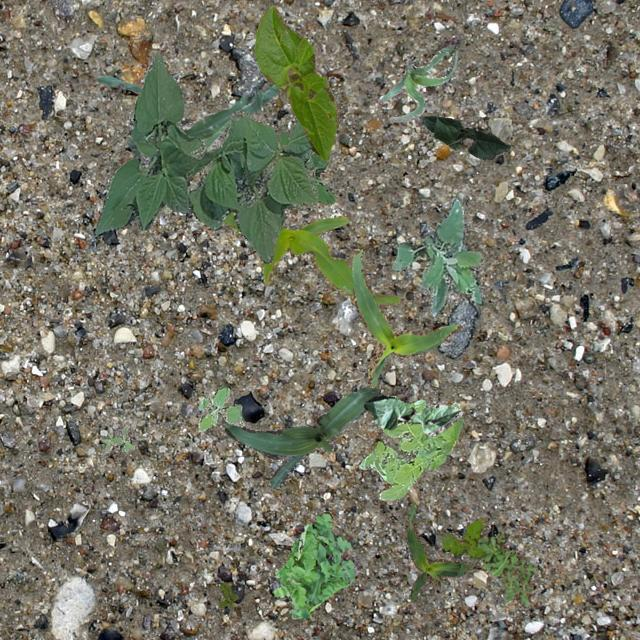crop: (92, 52, 316, 262), (222, 210, 400, 304), (223, 387, 379, 488), (350, 248, 460, 386), (128, 72, 280, 162), (254, 4, 338, 160), (404, 500, 478, 600), (378, 44, 458, 122), (96, 74, 156, 148), (420, 114, 510, 158), (364, 394, 462, 434)
weed: (391, 197, 484, 316), (358, 398, 462, 499), (272, 510, 356, 618), (474, 530, 534, 606), (276, 128, 334, 202), (197, 386, 244, 430), (441, 518, 484, 558), (100, 424, 134, 454), (218, 584, 236, 608)
